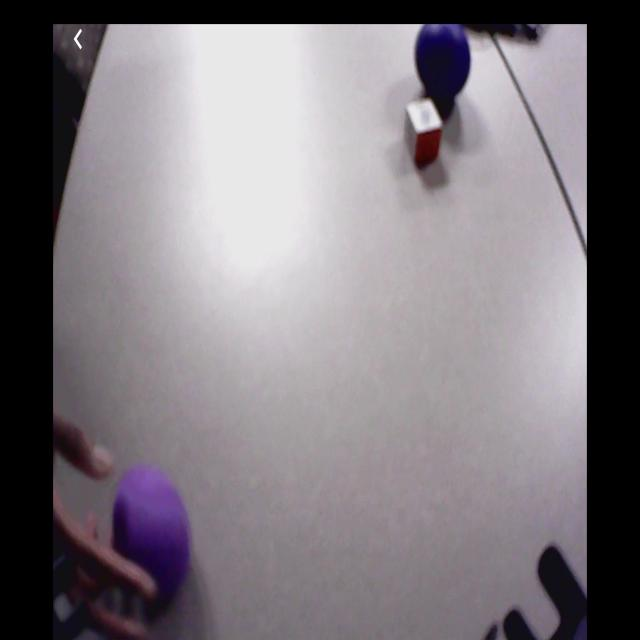ball: (112, 470, 192, 588), (414, 25, 470, 101)
